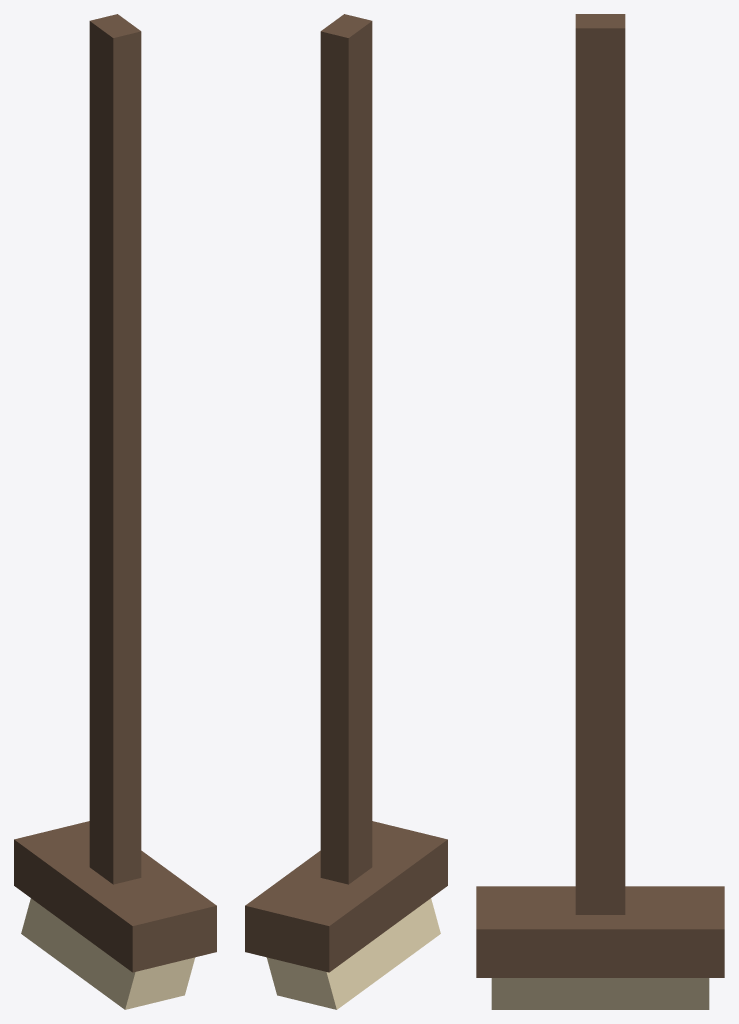
Rendered from S.Broom.fbx.
3 renders of one model, left to right at view 1: azimuth 30°, elevation 25°; view 2: azimuth 150°, elevation 25°; view 3: azimuth 270°, elevation 25°, orthographic. The views are drawn at different scales.
Parts seen in each view (by area): view 1: Broom; view 2: Broom; view 3: Broom.
Boxes of the visible parts, left/top/right/bottom form: Broom: left=14, top=14, right=216, bottom=1009; Broom: left=245, top=14, right=447, bottom=1009; Broom: left=476, top=14, right=724, bottom=1009.
Size of the model in its own units: 28.54 by 302 by 69.37.
